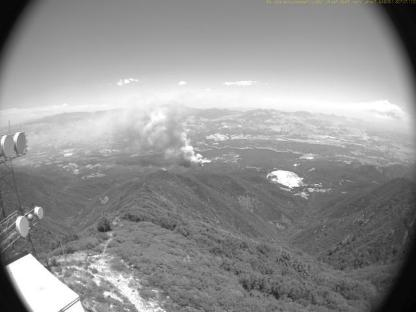smoke: (79, 91, 213, 165)
